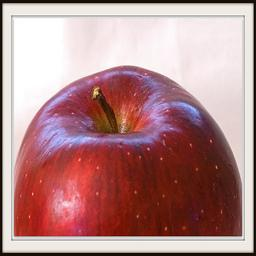apple: (11, 65, 243, 238)
